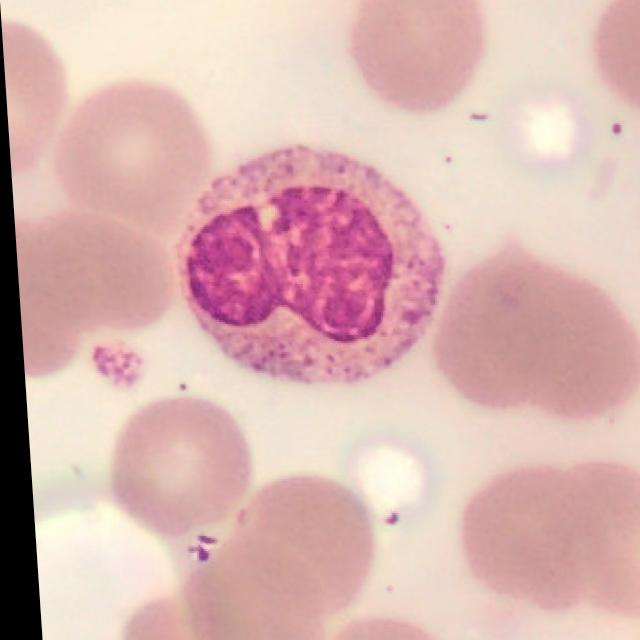Metamielocito: (171, 142, 444, 384)
